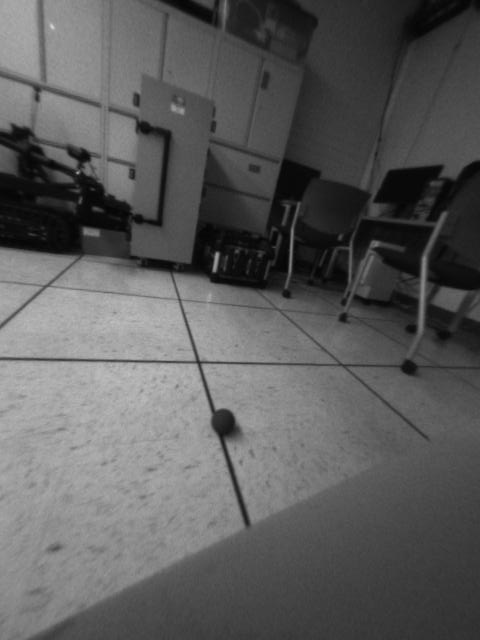dogtoy: (206, 403, 246, 440)
